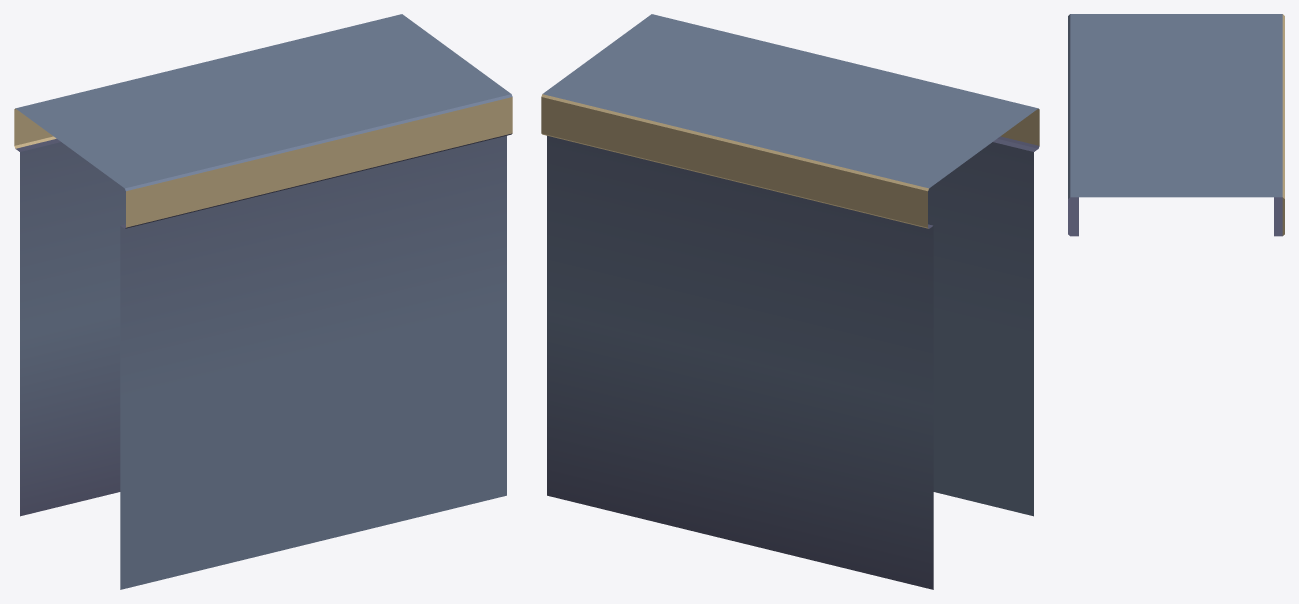
The model's file is BoatFence_top.fbx.
3 renders of one model, left to right at view 1: azimuth 30°, elevation 25°; view 2: azimuth 150°, elevation 25°; view 3: azimuth 270°, elevation 25°, orthographic. The views are drawn at different scales.
Visible parts, largest first — view 1: Board_fence; view 2: Board_fence; view 3: Board_fence.
Part boxes in pixels (x1=…): Board_fence: x1=14, y1=14, x2=512, y2=589; Board_fence: x1=541, y1=14, x2=1039, y2=589; Board_fence: x1=1068, y1=14, x2=1284, y2=236.
Size of the model in its own units: 200 by 200 by 100.
